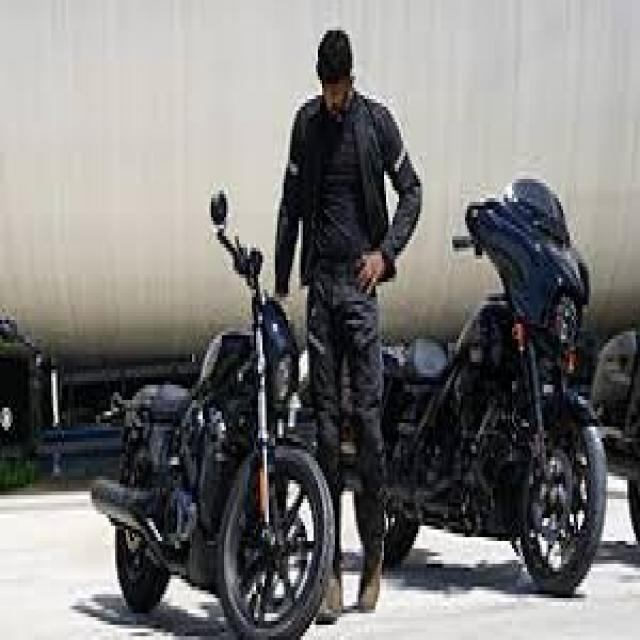Bike: (341, 177, 602, 593), (101, 216, 336, 640)
